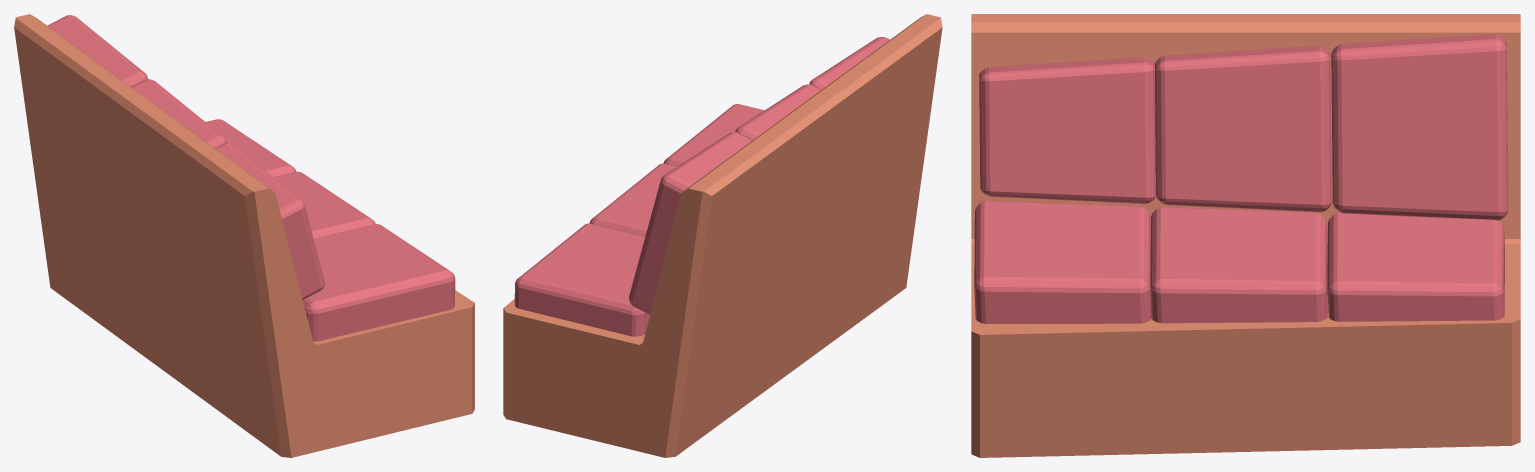
Rendered from Garden_Couch.fbx.
3 views of the same model, side by side, from view 1: azimuth 30°, elevation 25°; view 2: azimuth 150°, elevation 25°; view 3: azimuth 270°, elevation 25° (orthographic). The views are drawn at different scales.
Visible parts, largest first — view 1: Cube, Cube.002, Cube.001; view 2: Cube, Cube.002, Cube.001; view 3: Cube, Cube.001, Cube.002.
Part boxes in pixels (box(x1,y1,x2,y2)): Cube: box(14, 14, 474, 457); Cube.002: box(206, 119, 455, 341); Cube.001: box(47, 15, 325, 299); Cube: box(503, 14, 942, 457); Cube.002: box(514, 104, 764, 336); Cube.001: box(629, 37, 889, 315); Cube: box(971, 14, 1520, 457); Cube.001: box(979, 33, 1508, 220); Cube.002: box(974, 201, 1504, 323).
Size of the model in its own units: 354 by 404 by 635.
